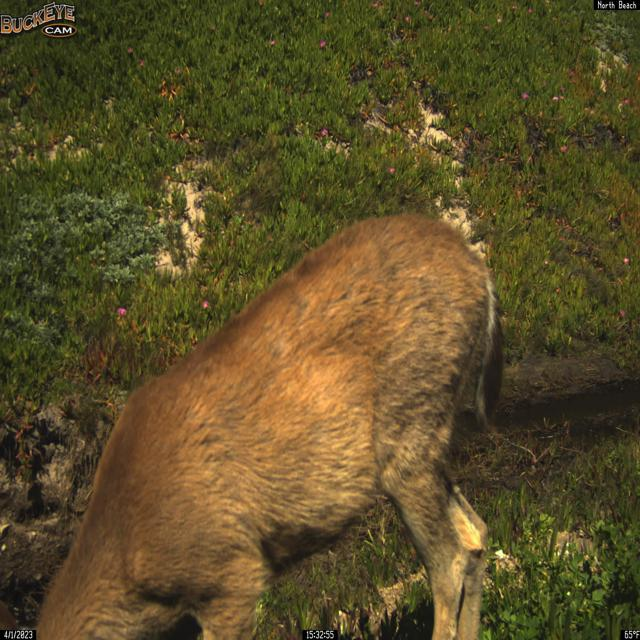deer: (0, 212, 506, 640)
